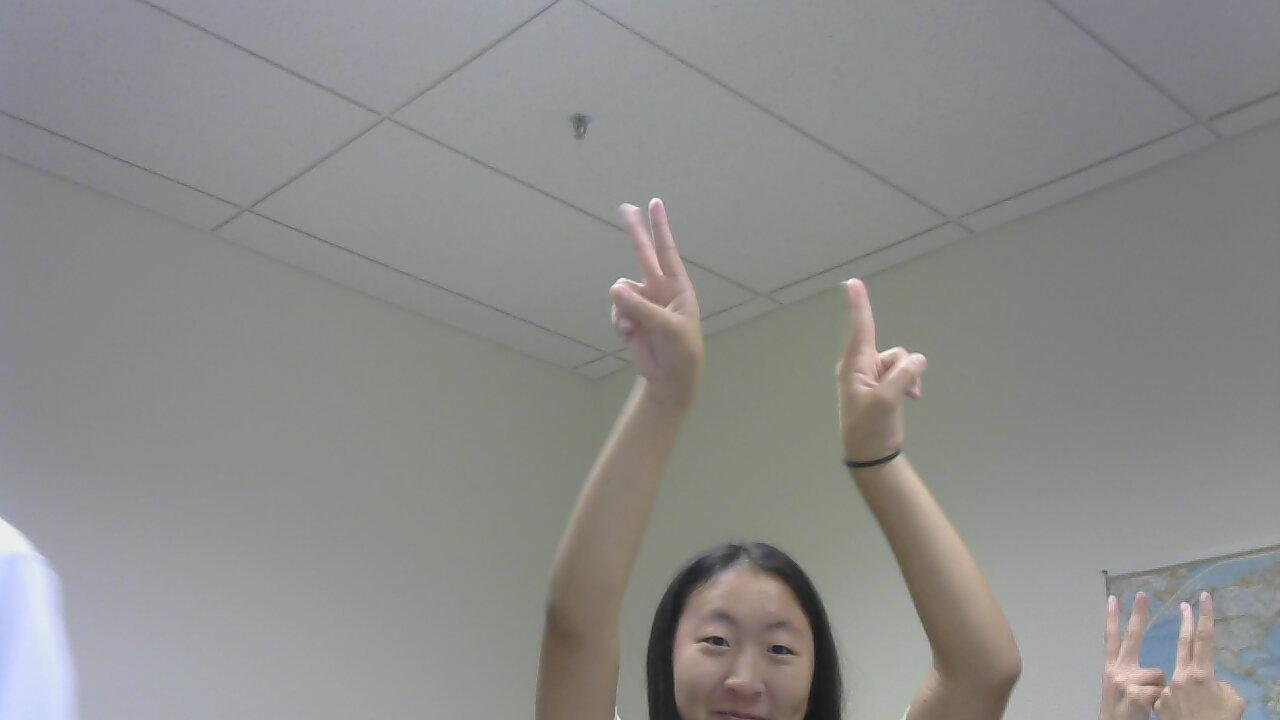peace: (586, 187, 725, 420), (813, 249, 942, 493), (1166, 582, 1260, 720), (1088, 577, 1157, 720)
